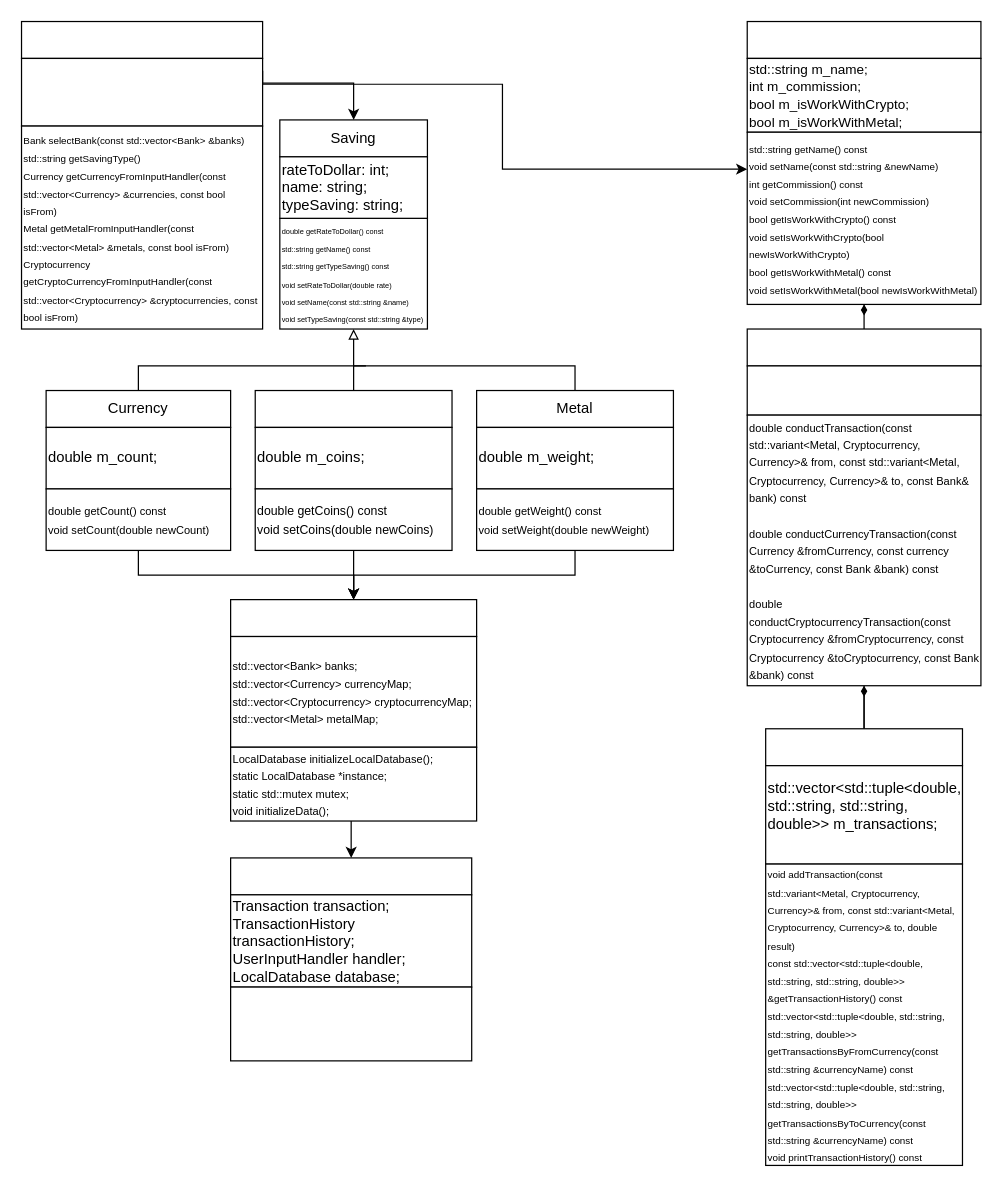
Some shapes in this 1002 by 1187 pixel diagram are drawn without their labels. The shapes that lost their labels are listed below. From the top down, each one's centre as x and y in pixels, then its label:
At (x=141, y=39): "UserInputHandler".
At (x=863, y=39): "Bank".
At (x=141, y=91): "std::string m_typeSaving;".
At (x=863, y=347): "Transaction".
At (x=353, y=408): "Cryptocurrency".
At (x=863, y=390): "std::map<std::string, Saving> m_currencies;".
At (x=353, y=617): "LocalDatabase".
At (x=863, y=747): "HistoryTransaction".
At (x=350, y=876): "UserInterface".
At (x=350, y=1023): "void run();".
